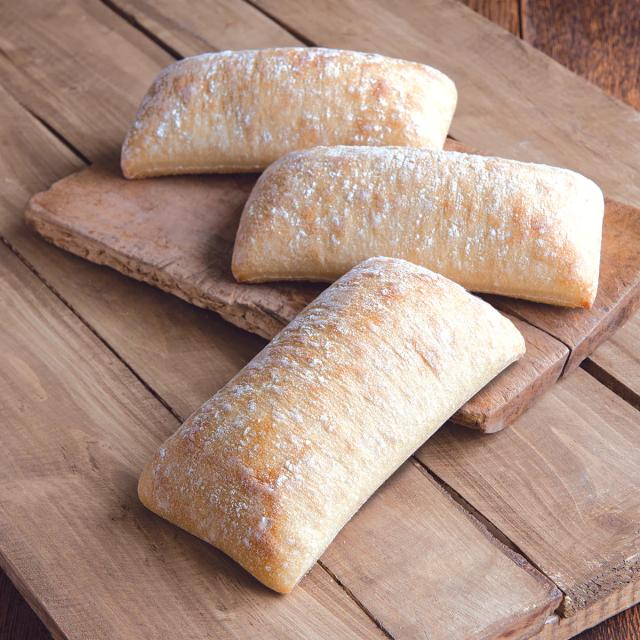Ciabatta: (139, 258, 523, 593), (232, 146, 603, 308), (122, 48, 457, 178)
